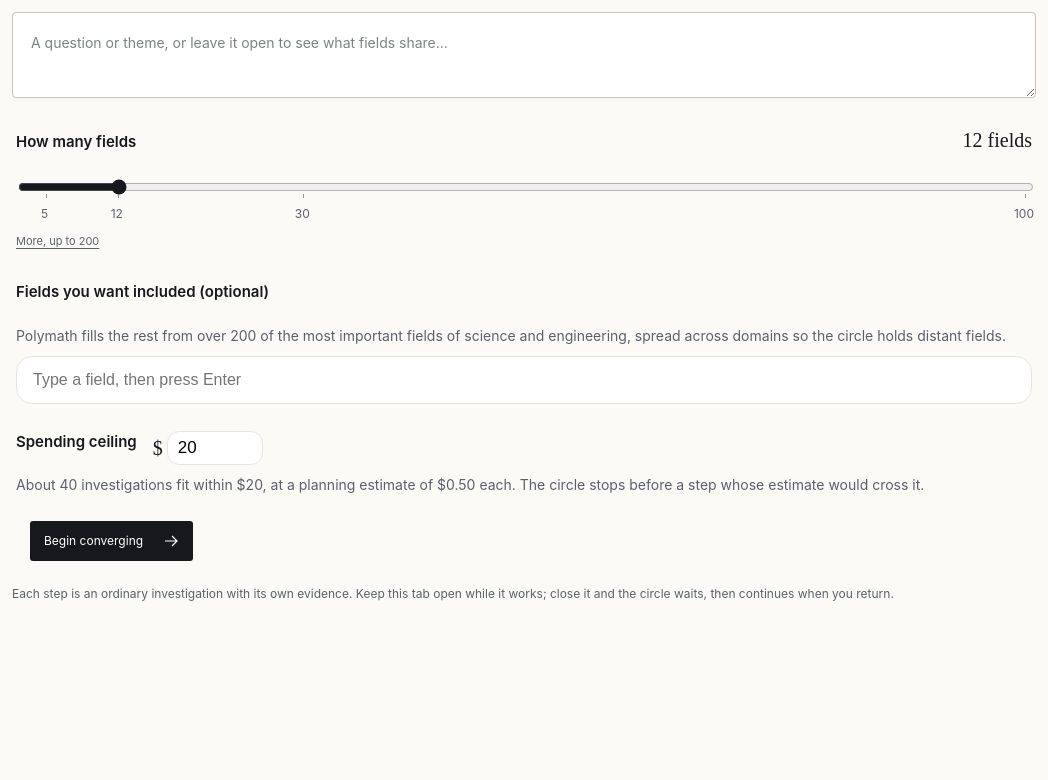
it: converge composer › shows a plain estimate, takes chosen fields as chips and sends one exact request
Later steps or results of the test are not shown.
expect the text "About 40 investigations fit within $20" is shown: met, box left=16, top=476, right=924, bottom=493
Click the button "More, up to 200": (58,241) left=16, top=228, right=99, bottom=254
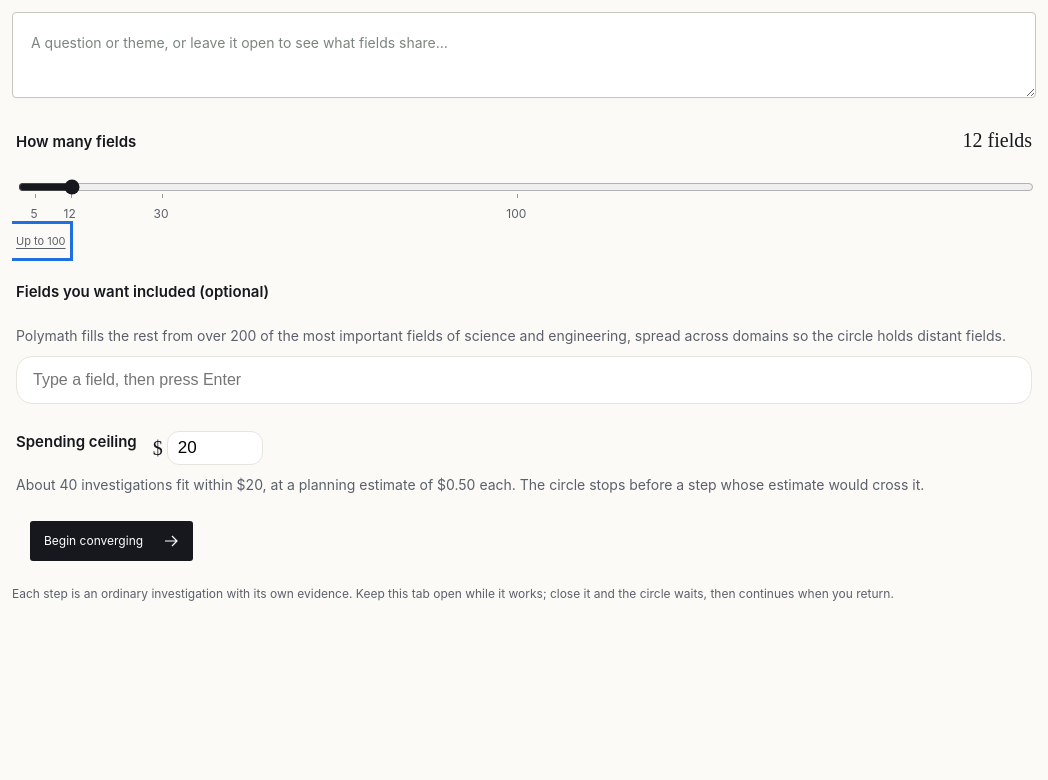
expect the slider labelled "How many fields" has attribute max="200": met, box left=18, top=176, right=1034, bottom=198
In the field labelled "Fields you want included (optional)": (524,380) left=29, top=367, right=1019, bottom=393, type "Ecology"
Then press Enter
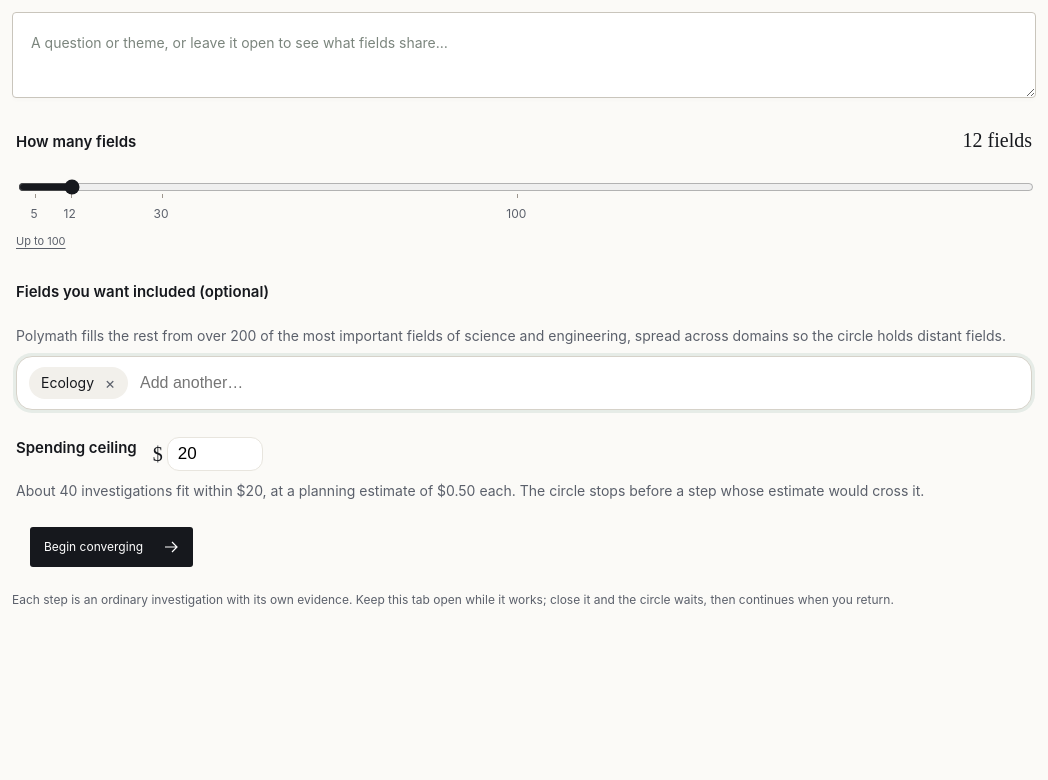
expect the button named "Remove Ecology" is shown: met, box left=98, top=371, right=122, bottom=395
